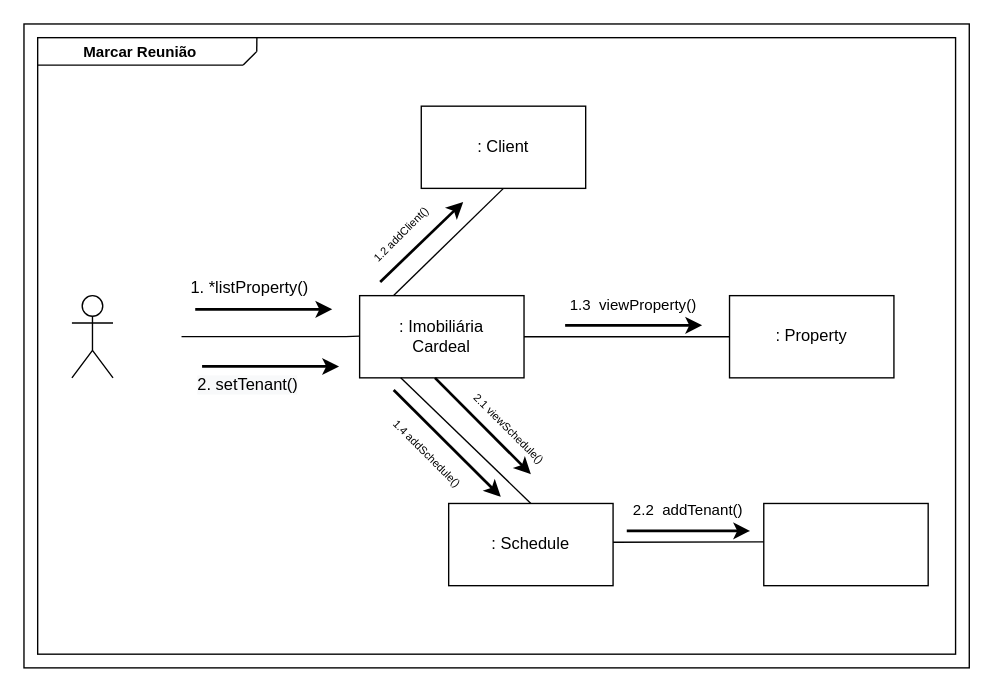
This 993x692 diagram has some shape labels left out. The box of each missing label's shape, as (x1, y1, x2, y2) in pixels:
: Realtor: (71, 294, 113, 378)
: Tenant: (762, 502, 928, 586)
